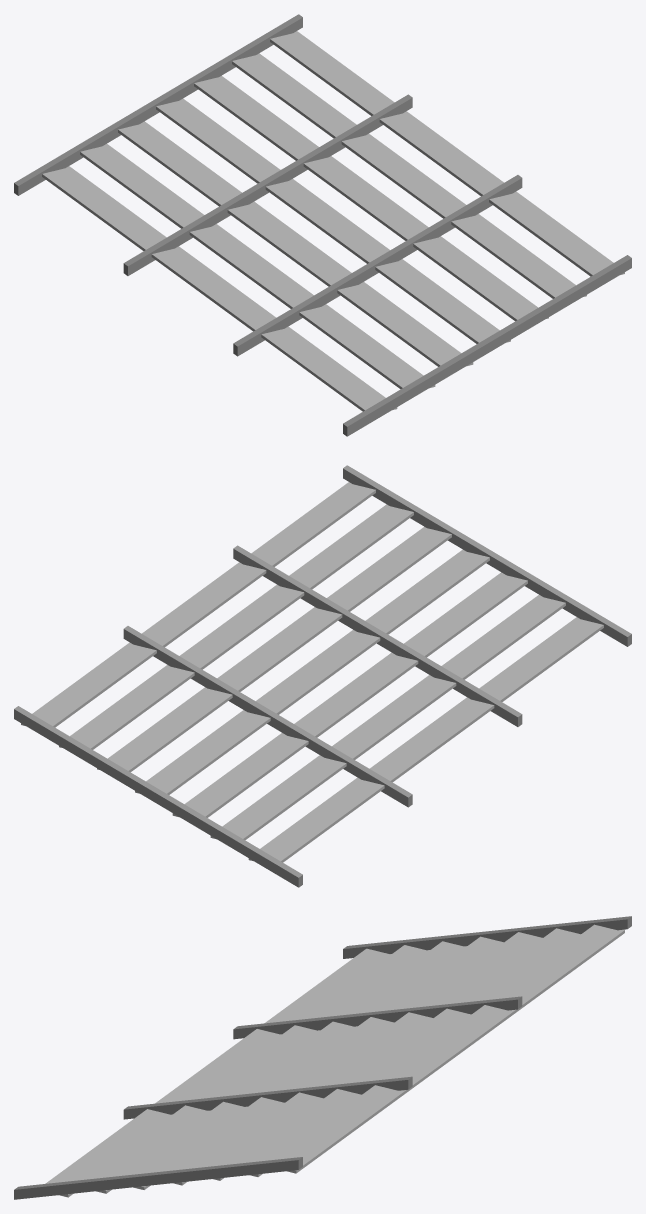
Rendered from Stairs1.fbx.
The picture shows the model from 3 angles, top to bottom: view 1: azimuth 30°, elevation 25°; view 2: azimuth 150°, elevation 25°; view 3: azimuth 330°, elevation 25°; orthographic projection.
Visible parts, largest first — view 1: pCube14; view 2: pCube14; view 3: pCube14.
Part boxes in pixels (bbox=[...]): pCube14: bbox=[14, 14, 631, 436]; pCube14: bbox=[14, 465, 631, 887]; pCube14: bbox=[14, 916, 631, 1199].
Bounding box in the file's own units: 3 × 1.1 × 6.08.
